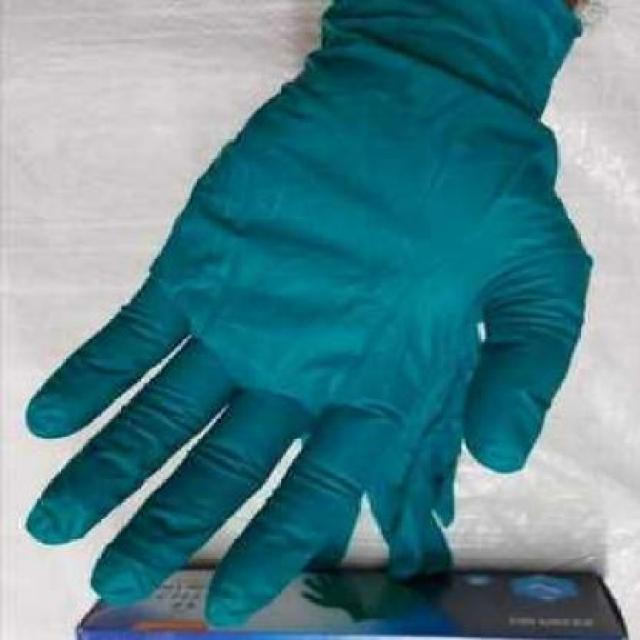gloved_hand: (16, 1, 596, 624)
